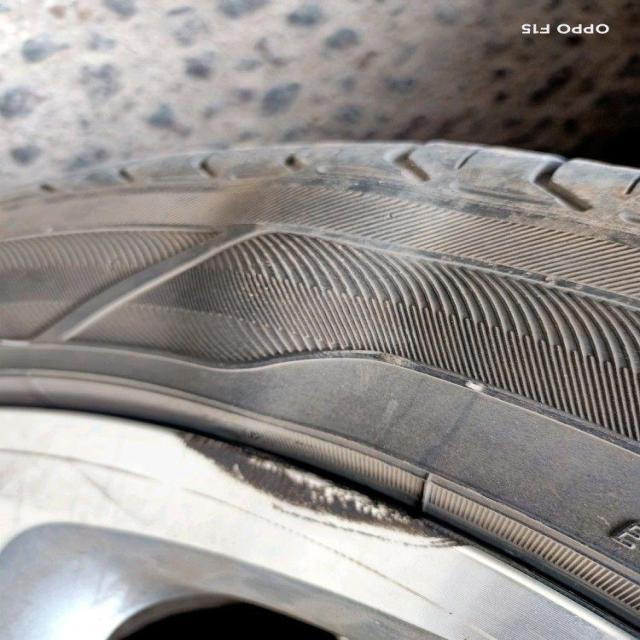Bulge: (165, 192, 384, 408)
